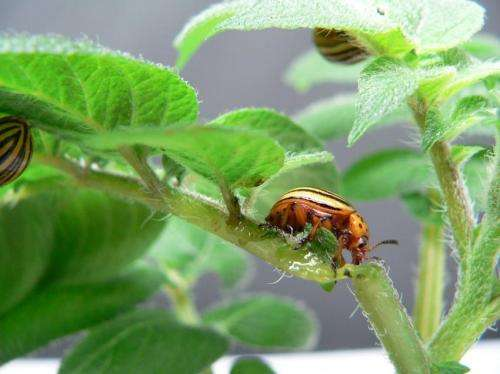hrosc: (264, 183, 376, 267)
